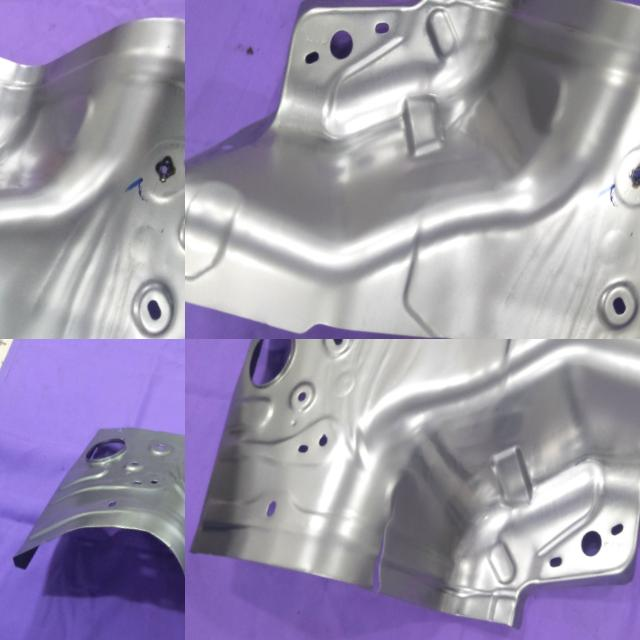Defect: (348, 496, 409, 606)
Healthy: (185, 0, 640, 339), (0, 0, 185, 339)
